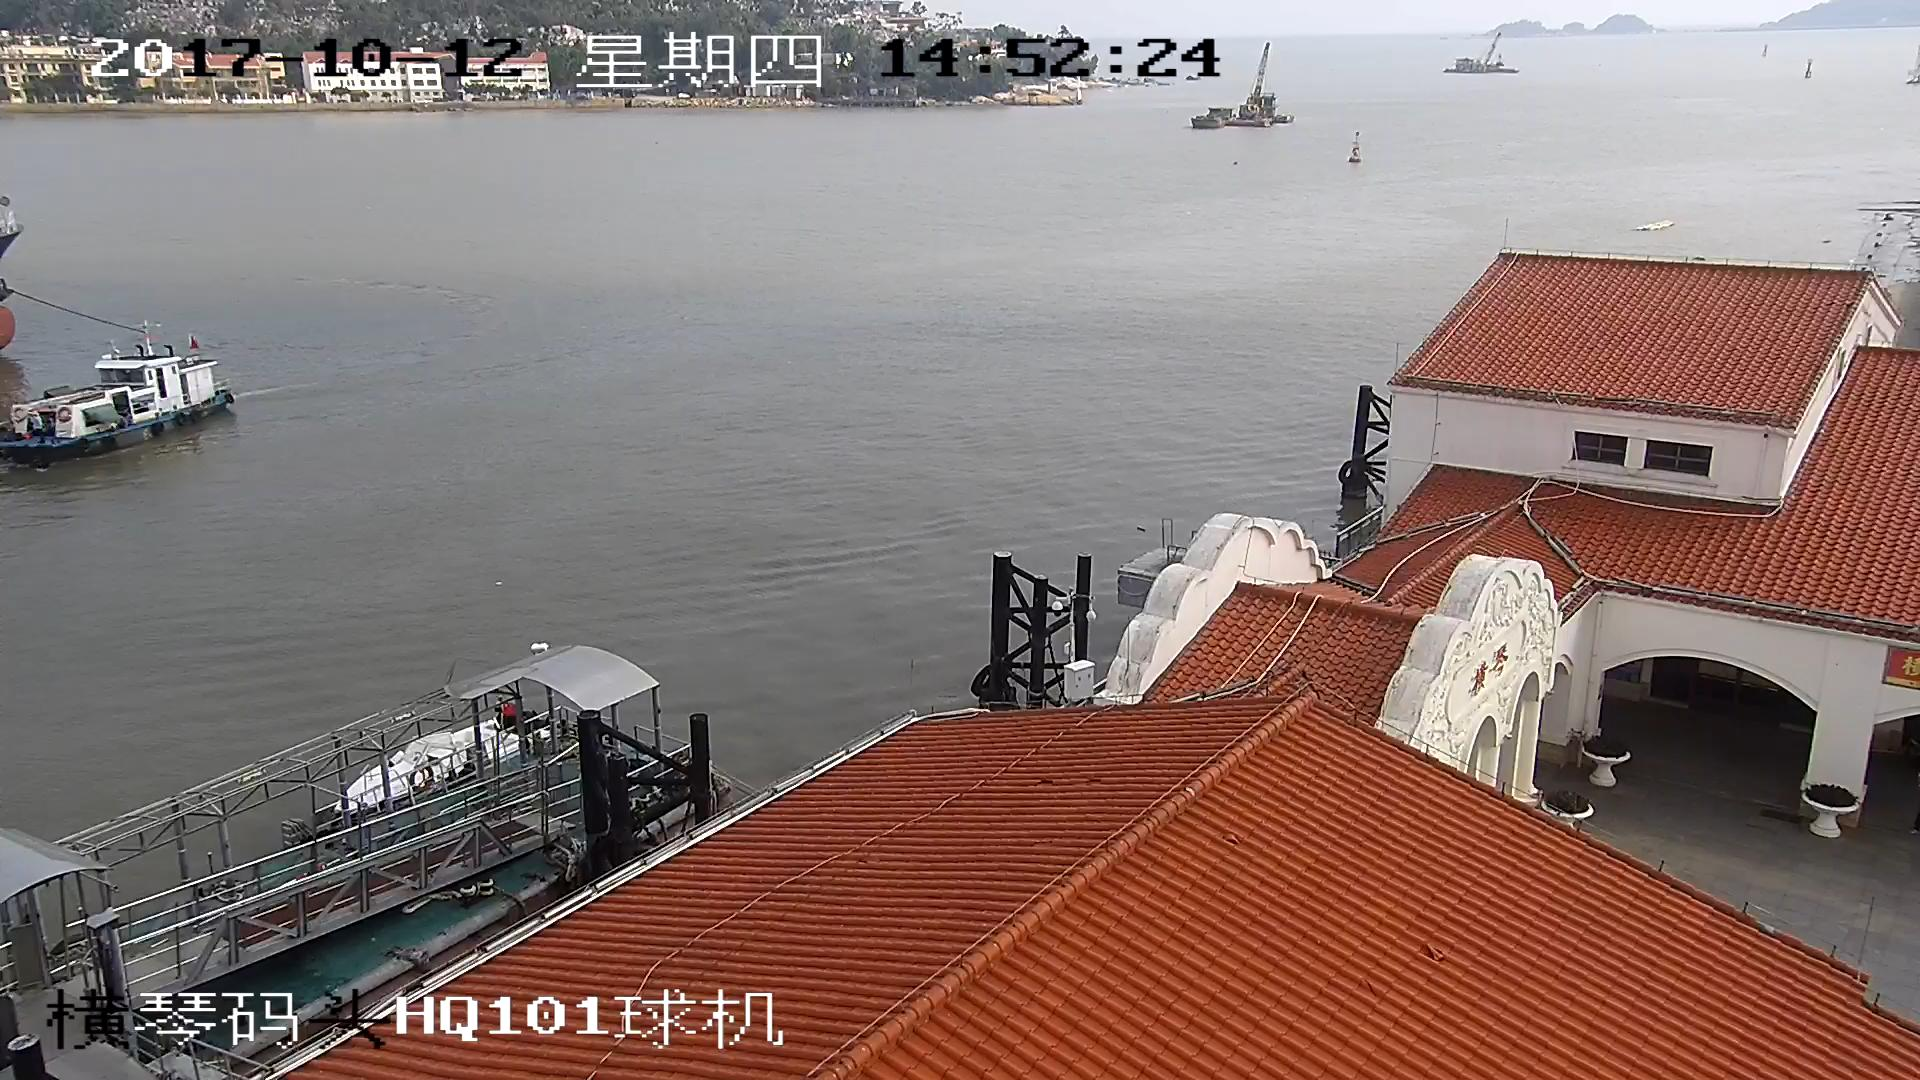fishing boat: (1, 318, 245, 447)
